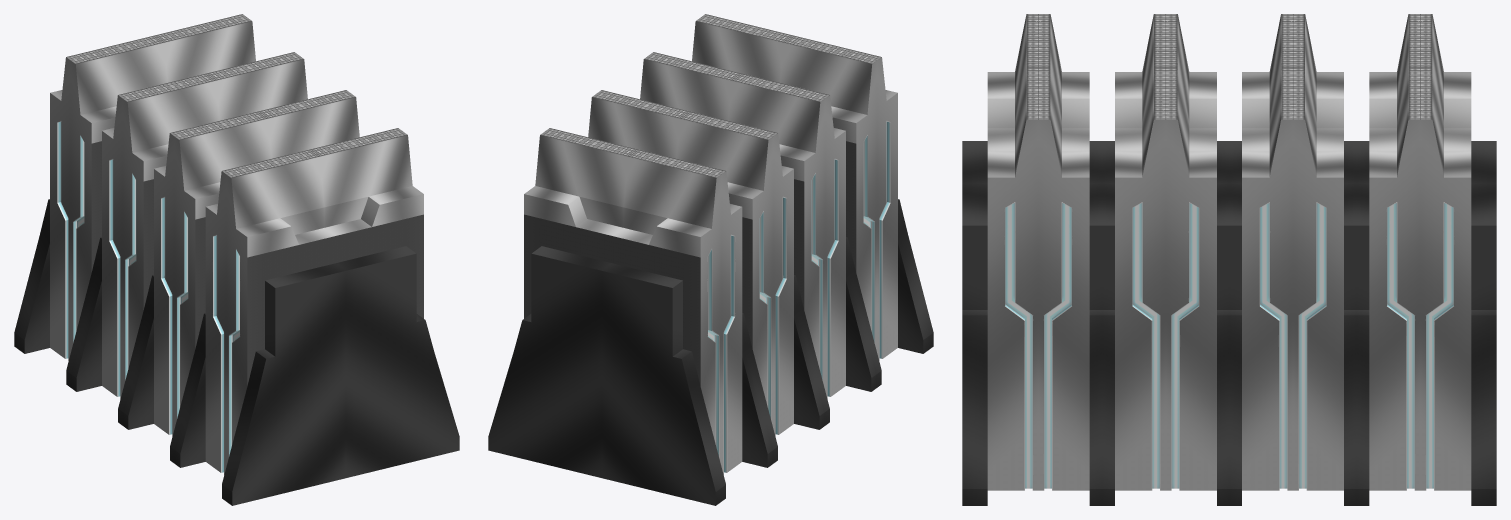
The model's file is mountain.fbx.
The picture shows the model from 3 angles, left to right: view 1: azimuth 30°, elevation 25°; view 2: azimuth 150°, elevation 25°; view 3: azimuth 270°, elevation 25°; orthographic projection. The views are drawn at different scales.
Visible parts, largest first — view 1: pCube39; view 2: pCube39; view 3: pCube39.
Part boxes in pixels (box(x1,y1,x2,y2)): pCube39: box(14, 14, 459, 505); pCube39: box(488, 14, 933, 505); pCube39: box(962, 14, 1496, 505).
Size of the model in its own units: 2.79 by 3.55 by 4.63.
Materials: 1 (1 with a texture image).
